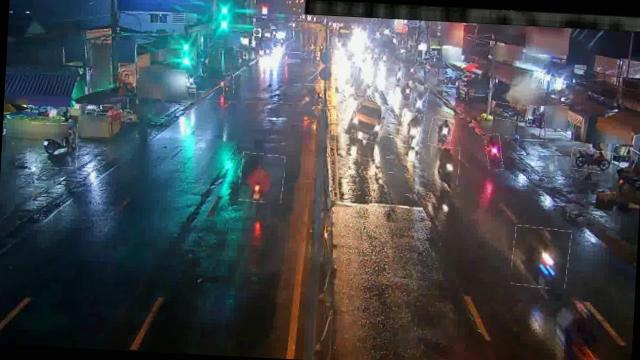Bike: (510, 225, 570, 288), (27, 122, 78, 170), (238, 153, 284, 203), (428, 146, 459, 184), (570, 148, 612, 172), (292, 82, 329, 108), (398, 111, 424, 146), (491, 102, 529, 122), (428, 117, 453, 147), (484, 134, 503, 170), (410, 84, 428, 110), (222, 73, 234, 97), (399, 80, 411, 103), (394, 64, 404, 84)
Car: (338, 97, 388, 141)
